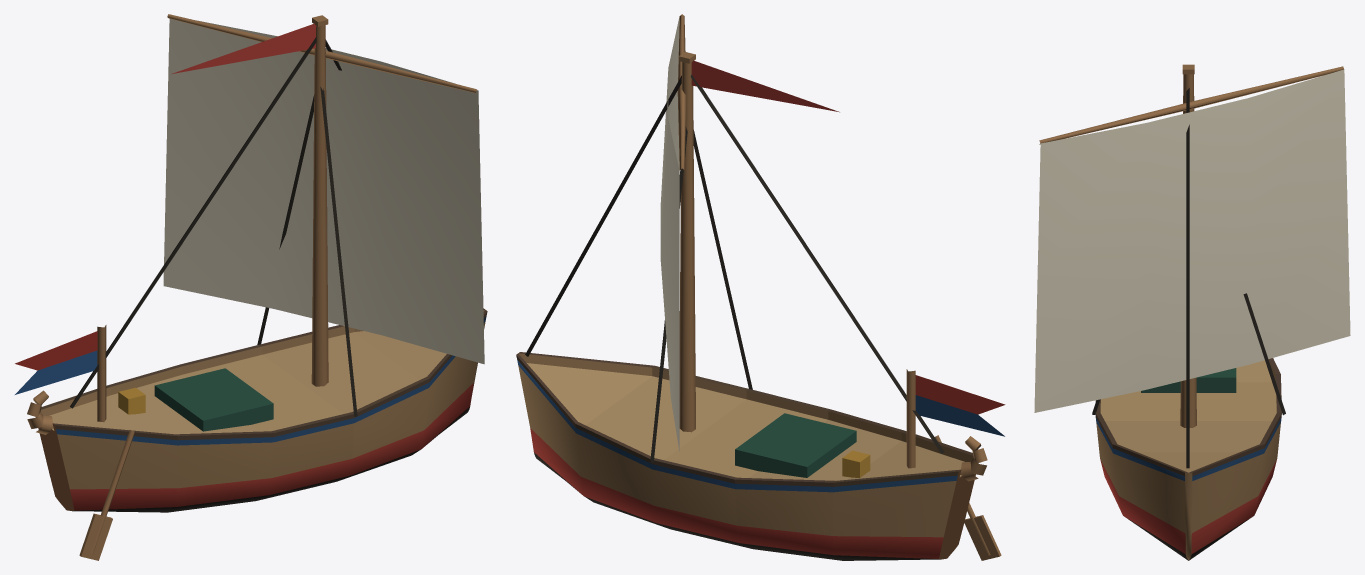
Rendered from hull_usd_fisher_skiff.glb.
The picture shows the model from 3 angles, left to right: view 1: azimuth 30°, elevation 25°; view 2: azimuth 150°, elevation 25°; view 3: azimuth 270°, elevation 25°; orthographic projection. The views are drawn at different scales.
Visible parts, largest first — view 1: sail_main, hull, deck, mast, flag, rigging, yards; view 2: hull, deck, mast, sail_main, rigging, flag, yards; view 3: sail_main, hull, rigging, yards, mast, deck.
Boxes of the visible parts, x1,y1,x2,y2 form: sail_main: (163, 19, 484, 364); hull: (27, 308, 487, 512); deck: (79, 368, 273, 560); mast: (97, 15, 328, 422); flag: (15, 23, 316, 394); rigging: (70, 37, 357, 416); yards: (167, 14, 476, 93); hull: (516, 352, 987, 560); deck: (735, 413, 1001, 560); mast: (679, 52, 915, 468); sail_main: (660, 16, 679, 451); rigging: (525, 74, 944, 462); flag: (691, 60, 1005, 436); yards: (677, 14, 686, 169); sail_main: (1034, 69, 1350, 412); hull: (1095, 358, 1281, 560); rigging: (1092, 88, 1285, 468); yards: (1039, 66, 1343, 144); mast: (1180, 64, 1196, 427); deck: (1141, 368, 1236, 392).
Size of the model in its own units: 5.37 by 4.93 by 3.15.
